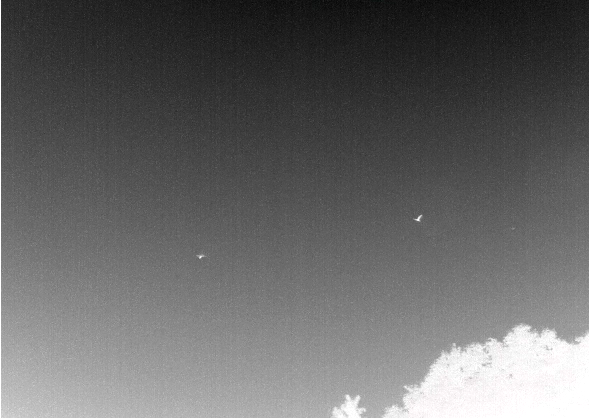dim target: (412, 214, 424, 223), (194, 252, 207, 259)
